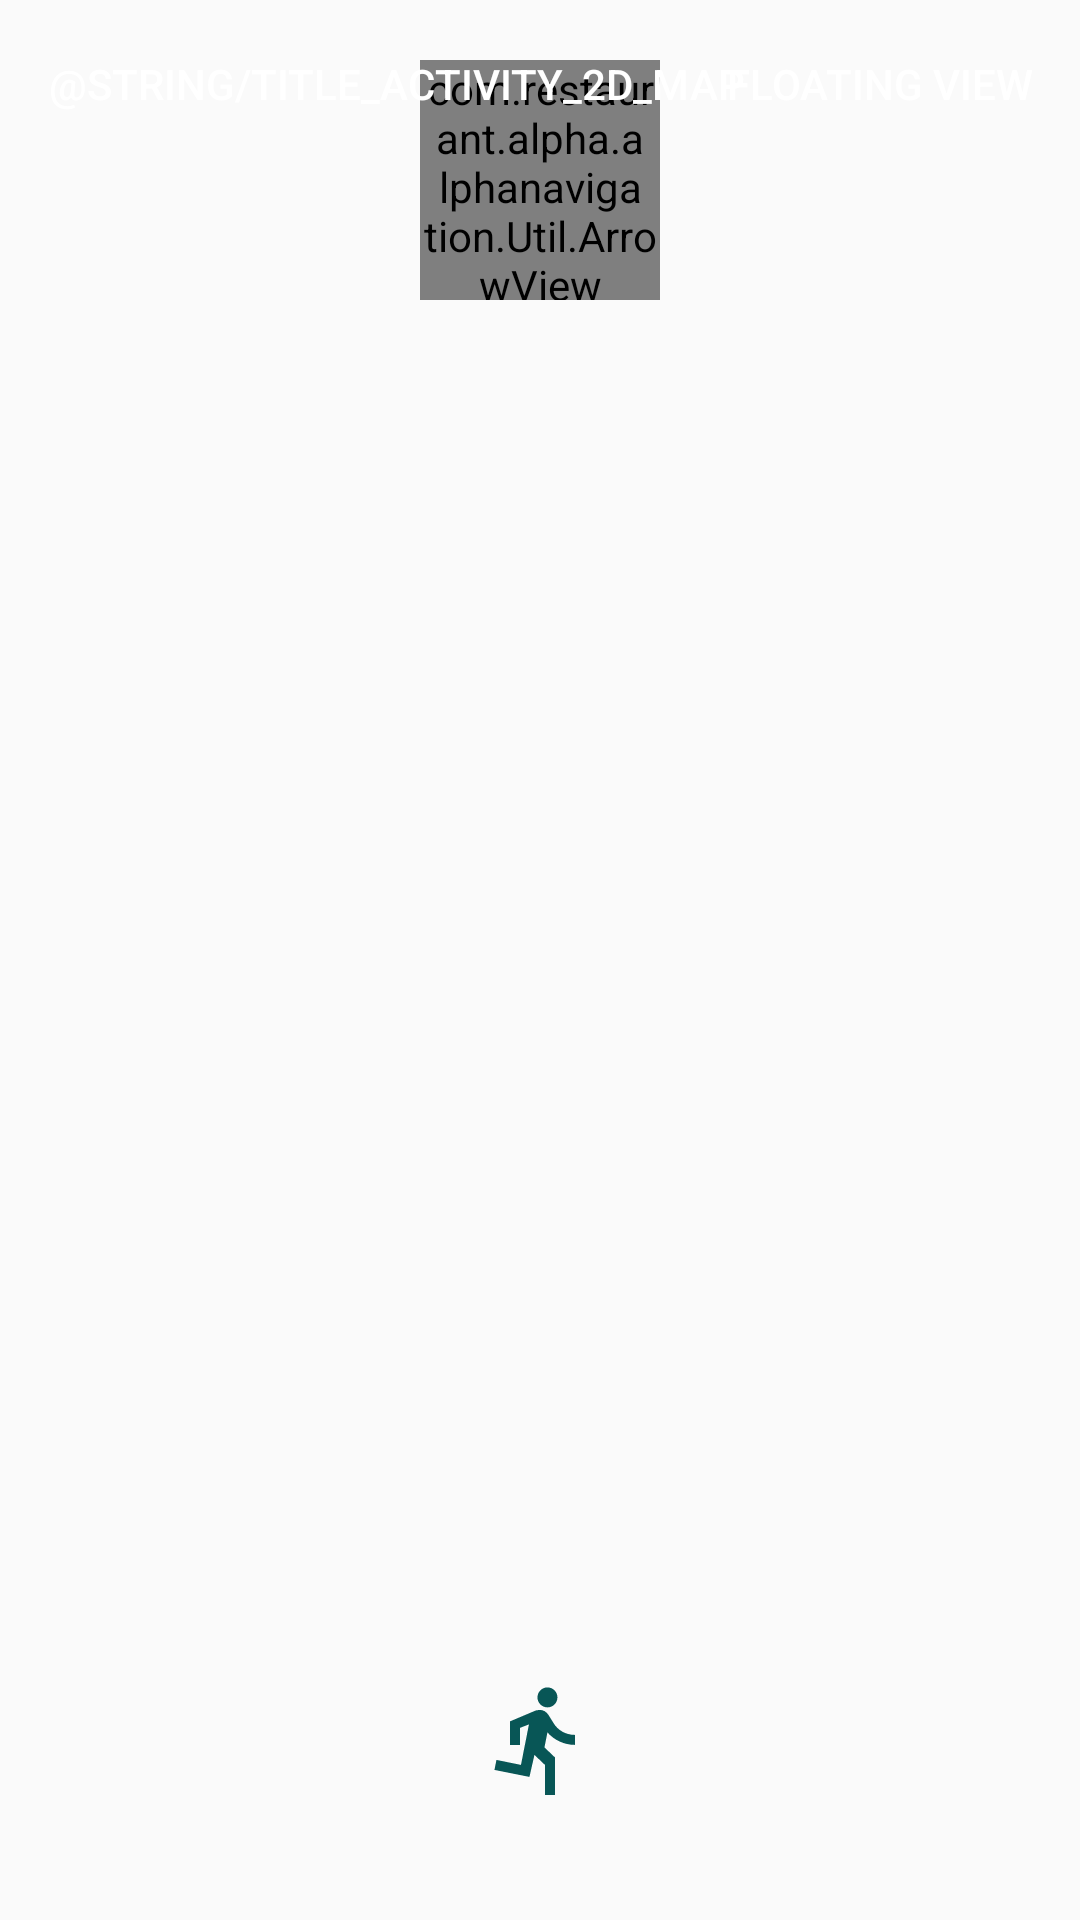

Screen size 1080w x 1920h. Icon name, then its box in pixels as {"left": x1, "top": y1, "right": x2, "bottom": y2}:
directions run: {"left": 494, "top": 1687, "right": 575, "bottom": 1795}
